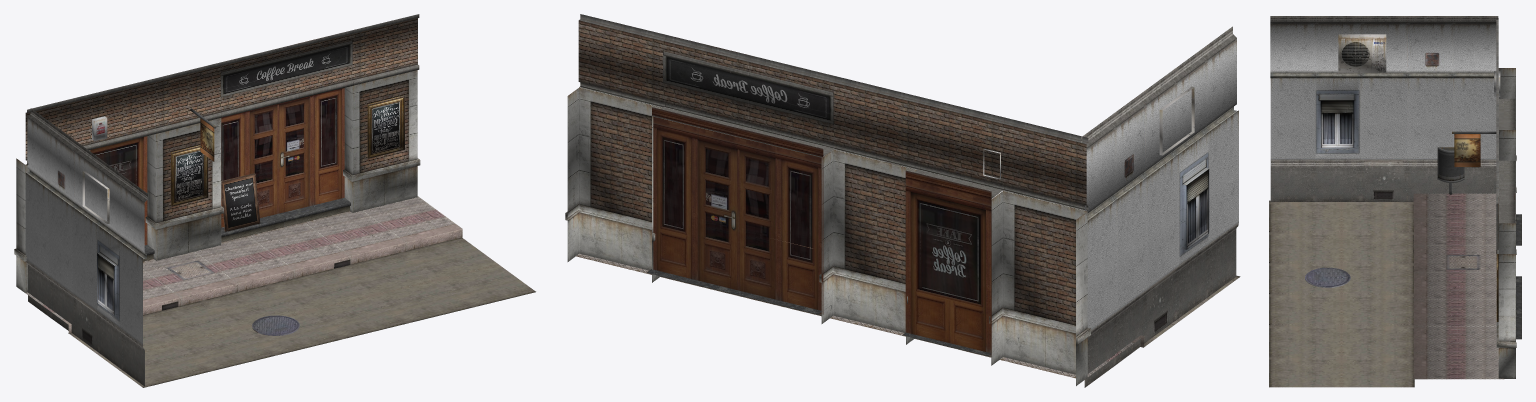
Rendered from env_modular.glb.
The picture shows the model from 3 angles, left to right: view 1: azimuth 30°, elevation 25°; view 2: azimuth 150°, elevation 25°; view 3: azimuth 270°, elevation 25°; orthographic projection. The views are drawn at different scales.
Visible parts, largest first — view 1: Environment_Material_0; view 2: Environment_Material_0; view 3: Environment_Material_0.
Part boxes in pixels (bbox=[...]): Environment_Material_0: bbox=[14, 14, 535, 387]; Environment_Material_0: bbox=[565, 14, 1240, 387]; Environment_Material_0: bbox=[1269, 16, 1521, 387].
Bounding box in the file's own units: 803 × 378 × 457.
1 material, 1 textured.
